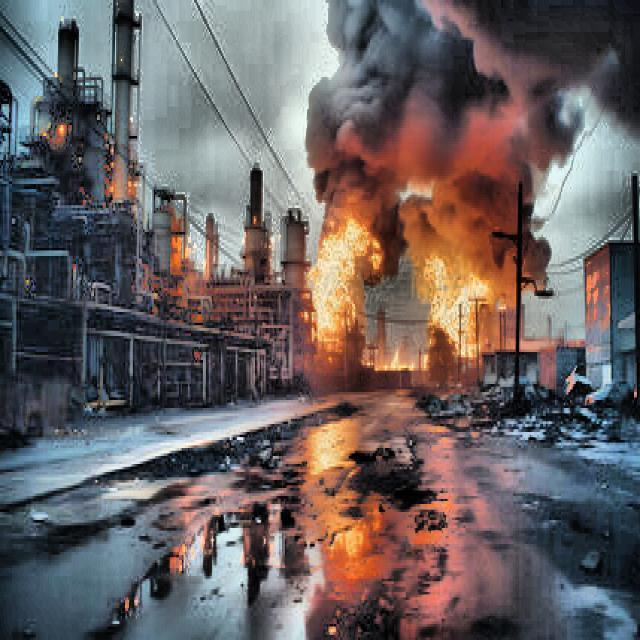Fire: (304, 214, 378, 343), (430, 256, 490, 357)
Smoke: (304, 0, 636, 208)
